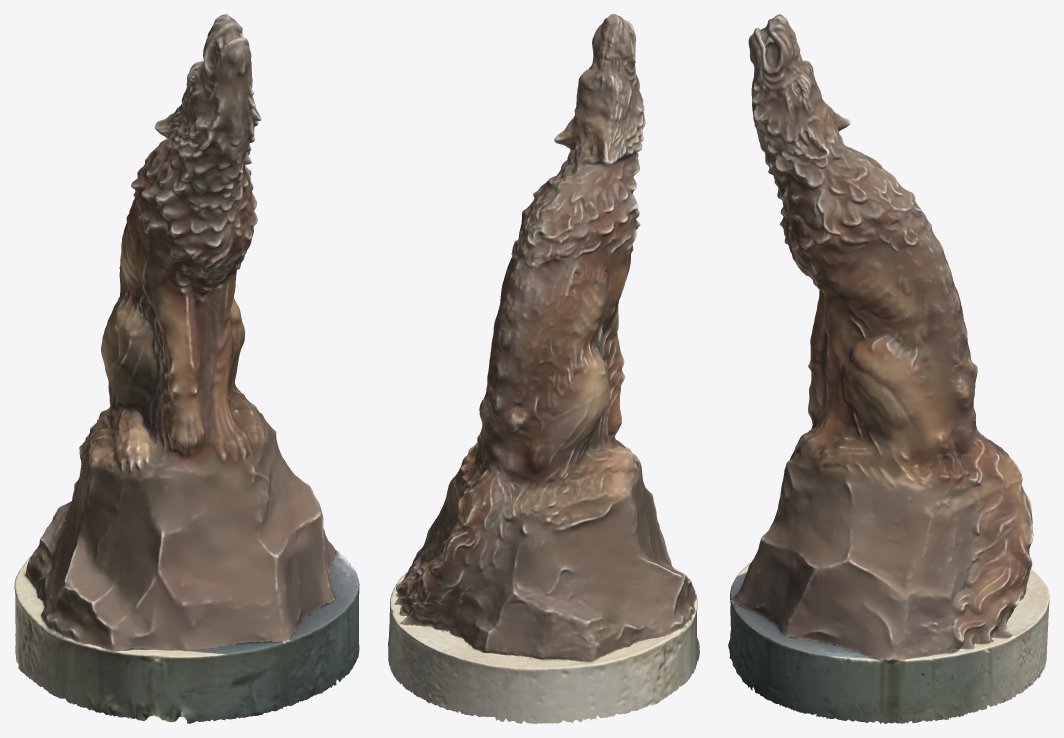
Rendered from Howl.glb.
3 renders of one model, left to right at view 1: azimuth 30°, elevation 25°; view 2: azimuth 150°, elevation 25°; view 3: azimuth 270°, elevation 25°, orthographic. The views are drawn at different scales.
Visible parts, largest first — view 1: SM_Howl_low1; view 2: SM_Howl_low1; view 3: SM_Howl_low1.
Boxes of the visible parts, bbox=[...] form: SM_Howl_low1: bbox=[14, 14, 359, 723]; SM_Howl_low1: bbox=[388, 14, 699, 723]; SM_Howl_low1: bbox=[728, 14, 1049, 723].
Size of the model in its own units: 8.61 by 18.76 by 8.65.
Materials: 1 (1 with a texture image).
